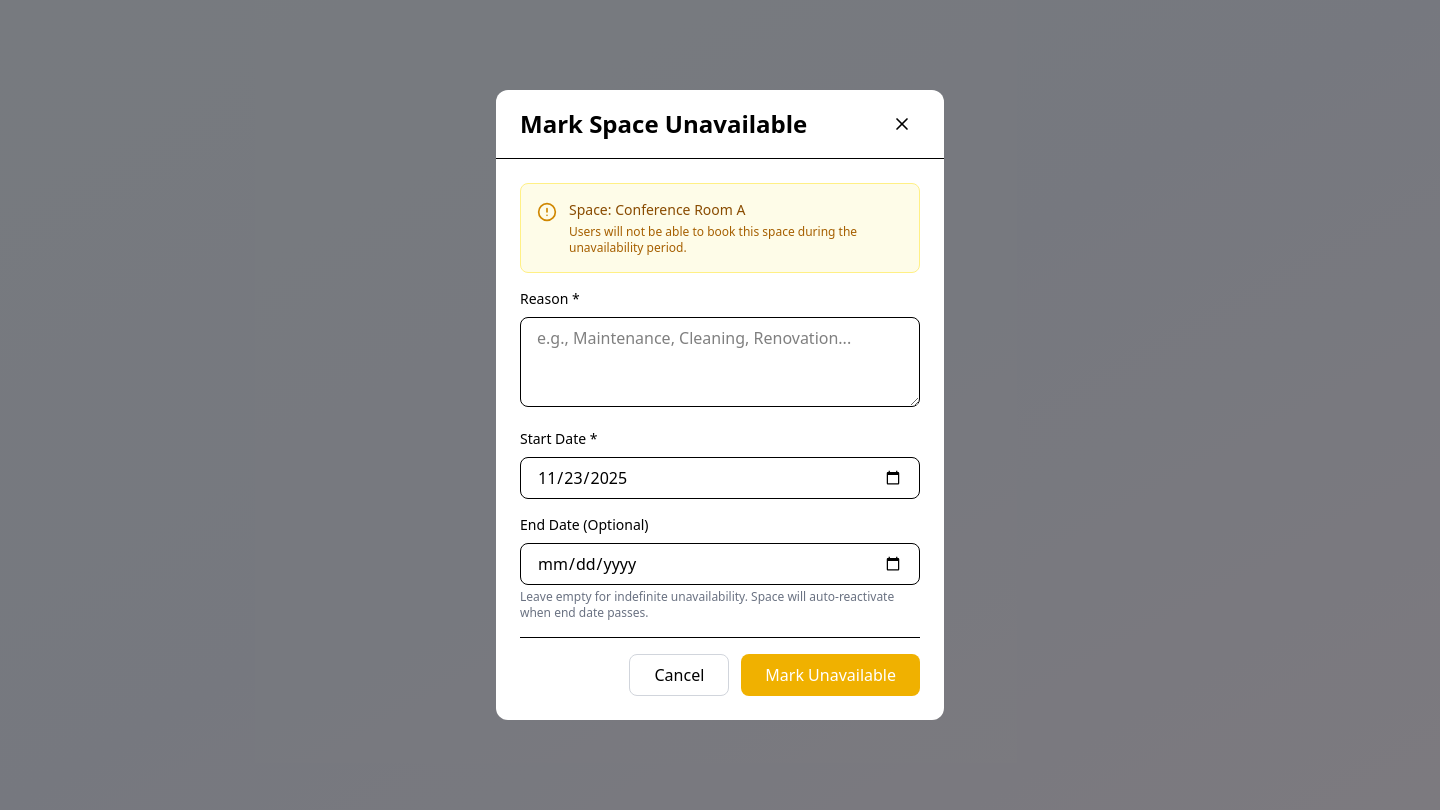
Test: MarkUnavailableDialog › validates required fields (AC#1)
Try to submit without filling fields
Click the button "Mark Unavailable": (831, 675) [741,654,920,696]
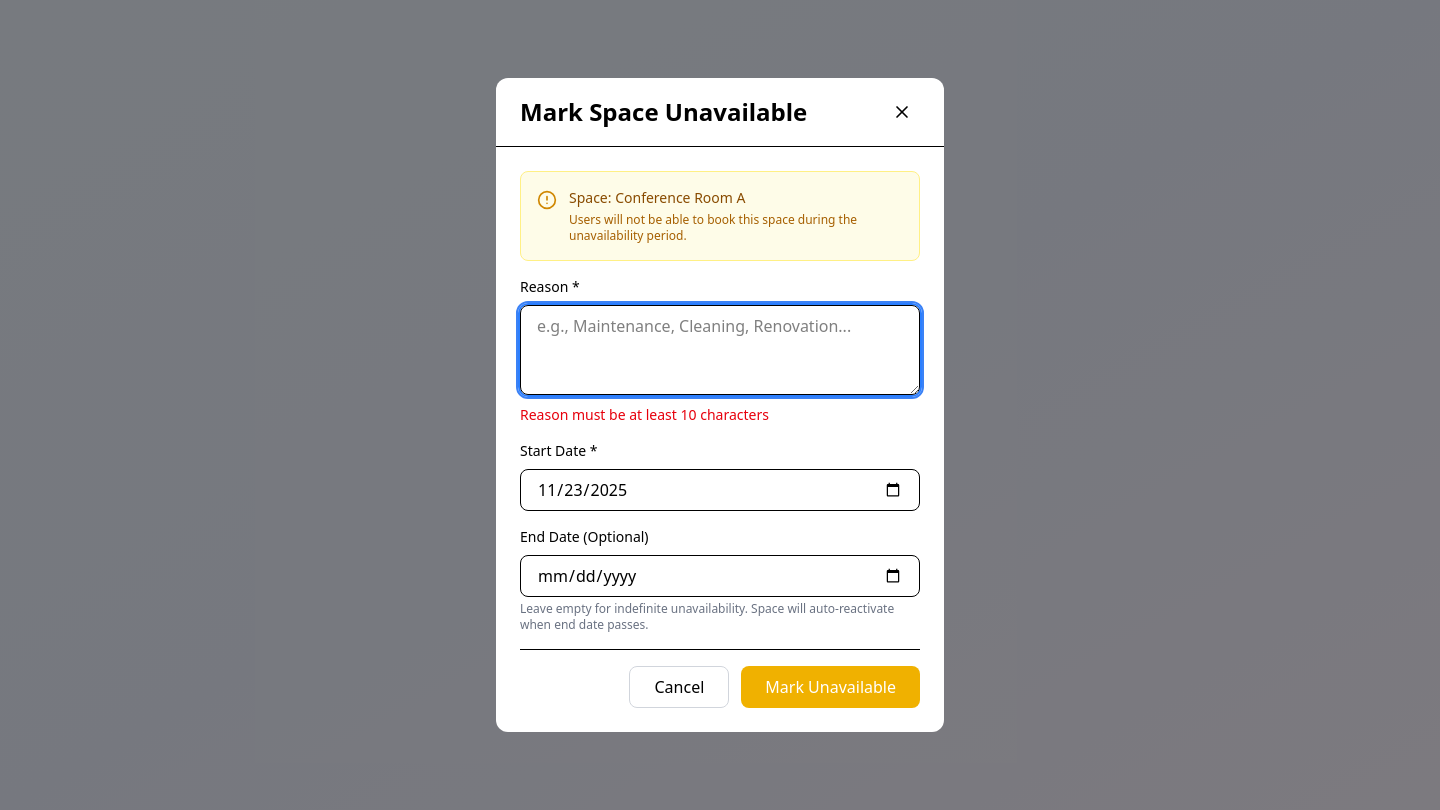
Now the text "Reason must be at least 10 characters" is shown, box [520,405,769,424]
